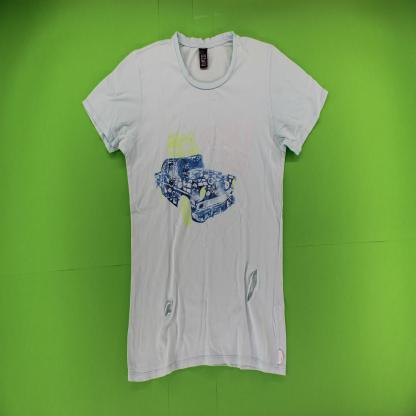hole: (246, 266, 259, 304), (163, 297, 174, 319)
